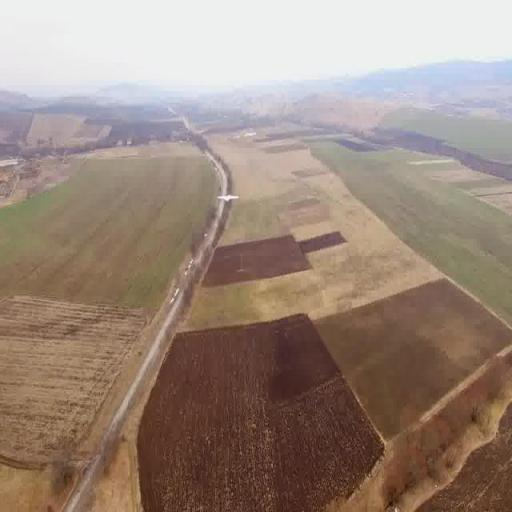uav: (219, 181, 245, 211)
